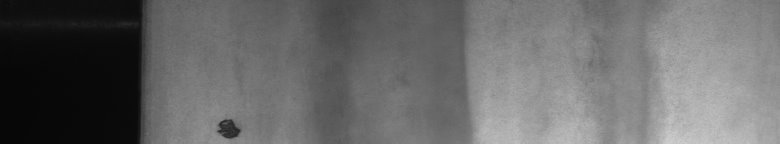fi: (212, 112, 248, 136)
